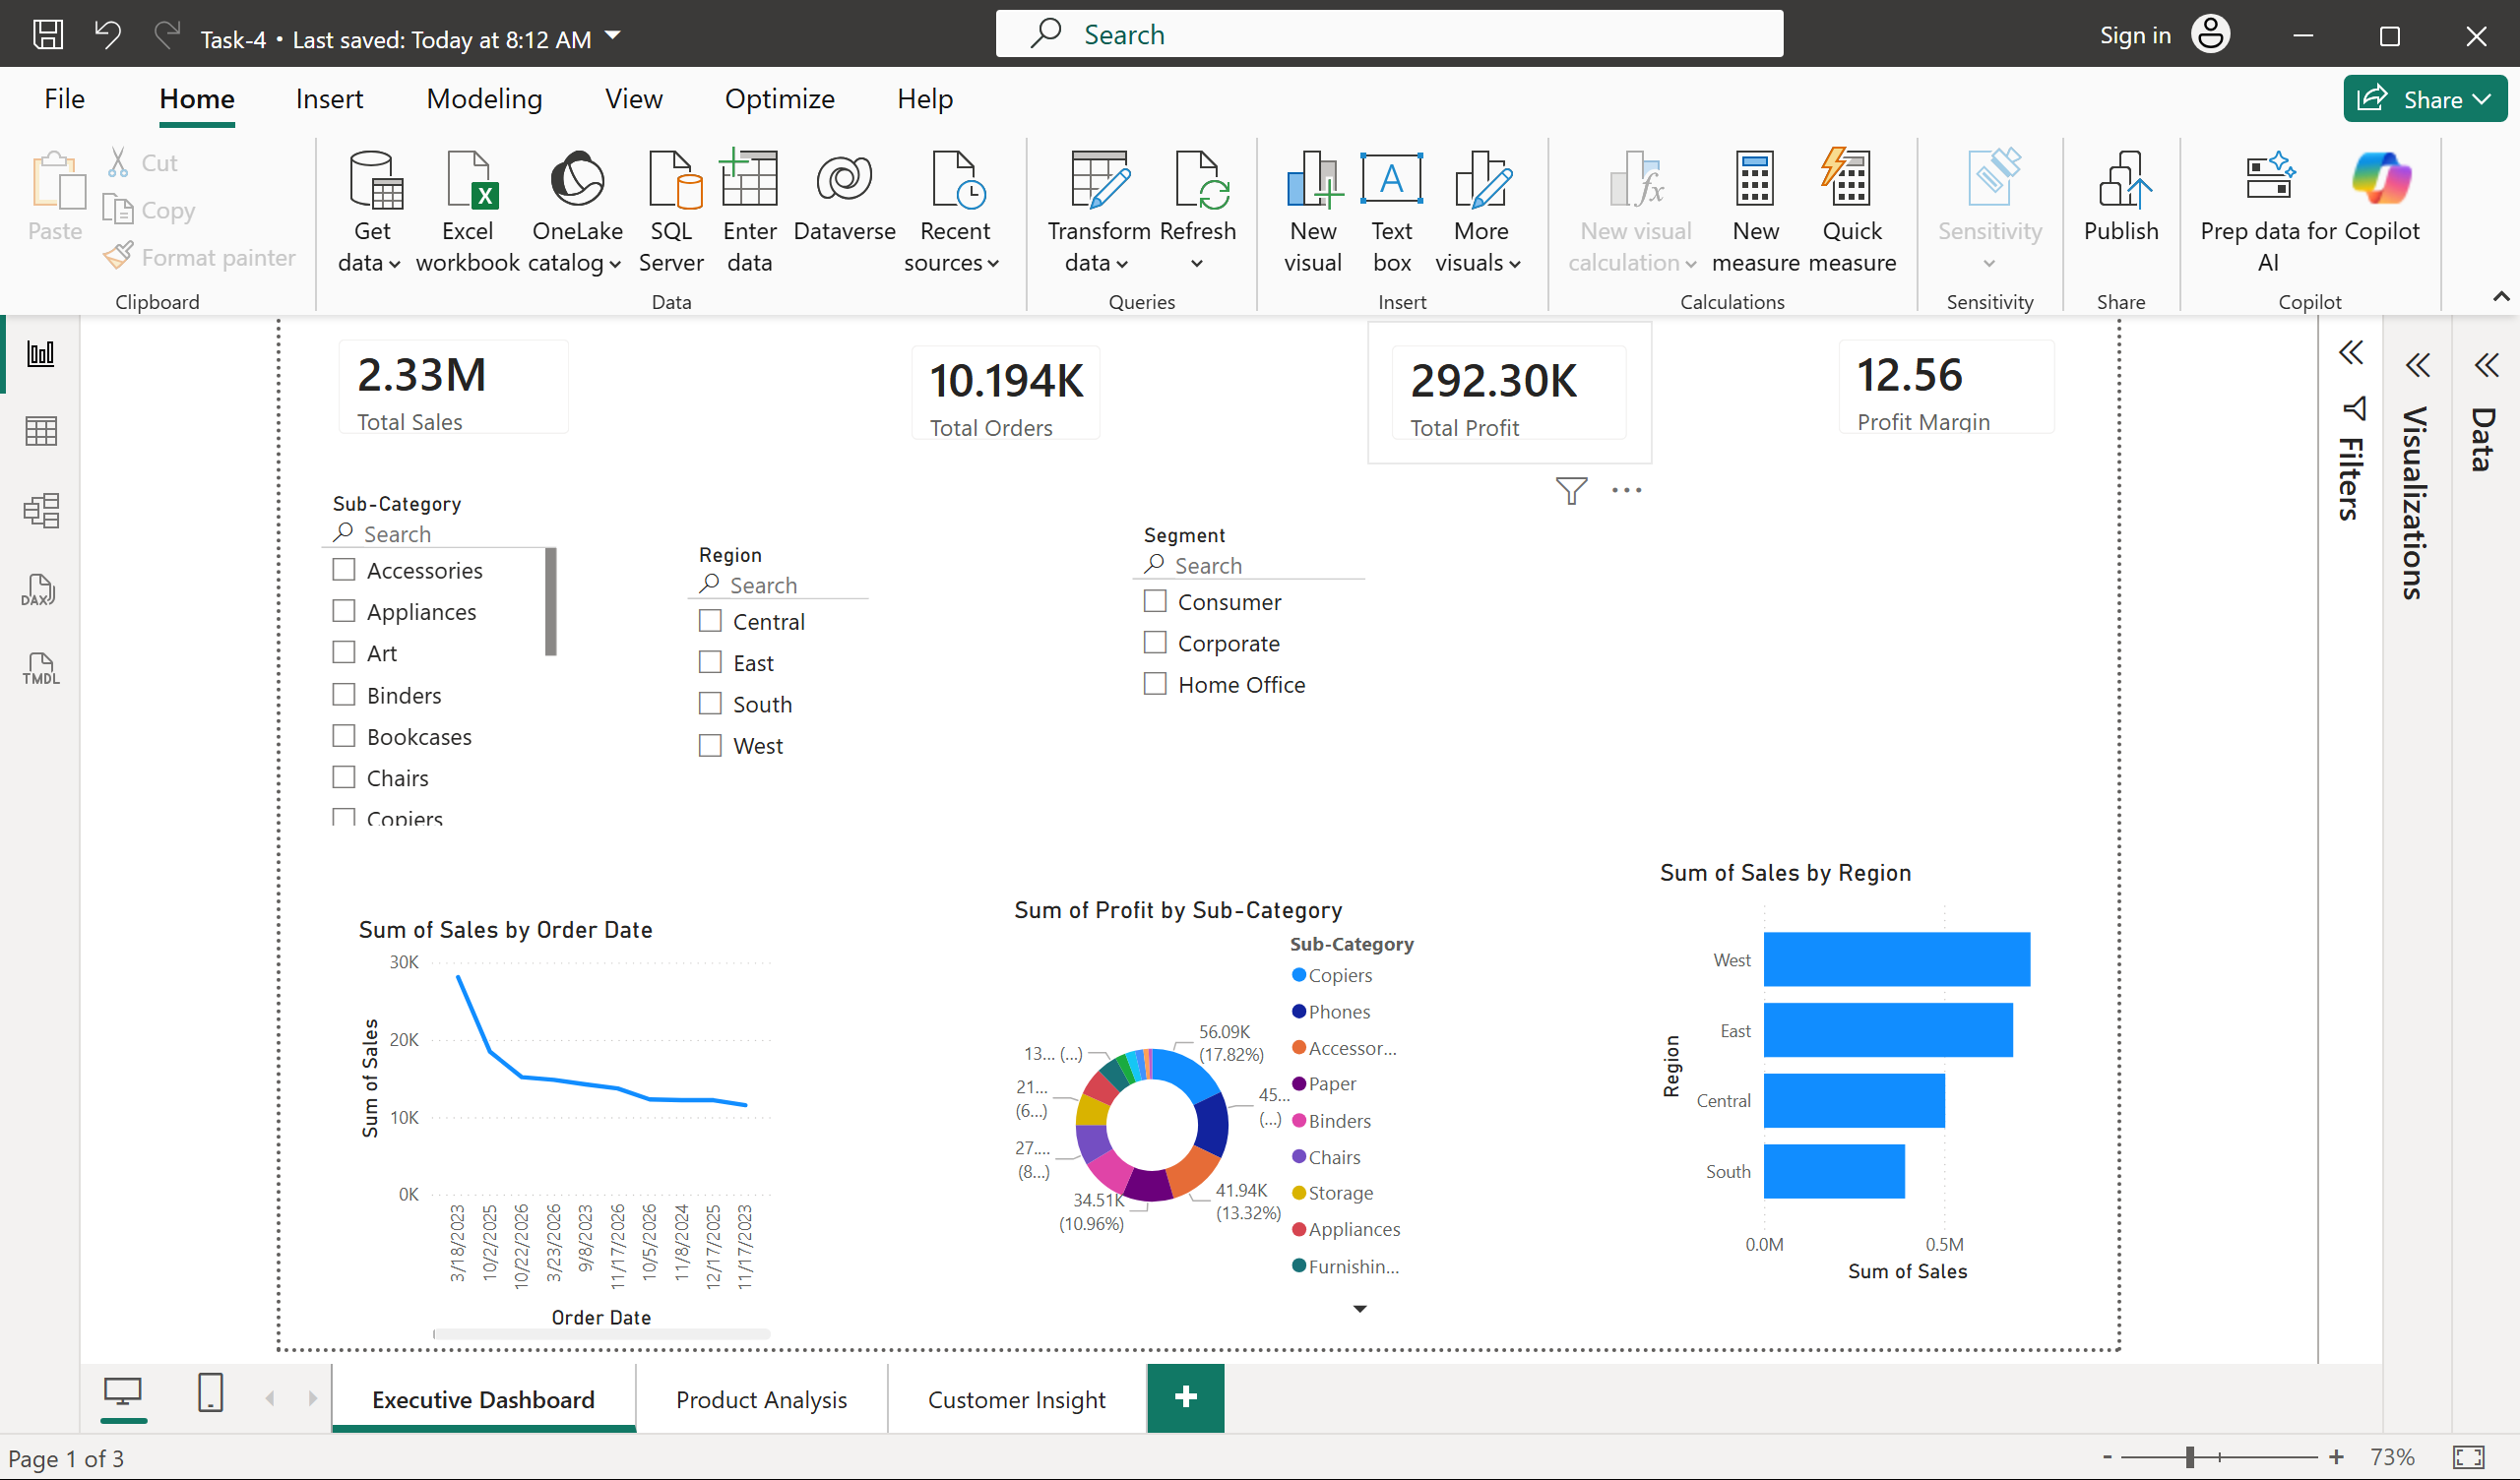

The dashboard page shown, as its layout file describes it:
{"tool":"powerbi","page":{"name":"Executive Dashboard","canvas":[1280,720],"ordinal":0},"visuals":[{"type":"cardVisual","fields":{"Data":["samplesuperstore.Total Sales","samplesuperstore.Total Sales"]},"box":[22.7,0,195,100.4],"z":0},{"type":"cardVisual","fields":{"Data":["samplesuperstore.Total Profit"]},"box":[757,4.1,198.9,100.1],"z":1000},{"type":"cardVisual","fields":{"Data":["samplesuperstore.Total Orders"]},"box":[422.2,3.8,166.6,100.4],"z":2000},{"type":"cardVisual","fields":{"Data":["samplesuperstore.Profit Margin"]},"box":[1067.9,0,185.6,100.4],"z":3000},{"type":"clusteredBarChart","fields":{"Category":["samplesuperstore.Region"],"Y":["Sum(samplesuperstore.Sales)"]},"box":[956.2,378.7,297.3,301.1],"z":4000},{"type":"donutChart","fields":{"Category":["samplesuperstore.Sub-Category"],"Y":["Sum(samplesuperstore.Profit)"]},"box":[505.6,405.2,297.3,301.1],"z":5000},{"type":"lineChart","fields":{"Y":["Sum(samplesuperstore.Sales)"],"Category":["samplesuperstore.Order Date"]},"box":[49.2,418.5,297.3,301.1],"z":6000},{"type":"slicer","fields":{"Values":["samplesuperstore.Region"]},"box":[278.3,153.4,136.3,193.1],"z":7000},{"type":"slicer","fields":{"Values":["samplesuperstore.Sub-Category"]},"box":[22.7,117.4,174.2,242.4],"z":8000},{"type":"slicer","fields":{"Values":["samplesuperstore.Segment"]},"box":[588.9,140.1,172.3,219.6],"z":9000}]}

Visuals, with their boxes on the page's 1280x720 design canvas (x1, y1, x2, y2). These are canvas units, not pixel positions in the 2520x1480 screenshot, which may show the page scaled, cropped or inside an application window:
cardVisual - samplesuperstore.Total Sales x samplesuperstore.Total Sales: [left=23, top=0, right=218, bottom=100]
cardVisual - samplesuperstore.Total Profit: [left=757, top=4, right=956, bottom=104]
cardVisual - samplesuperstore.Total Orders: [left=422, top=4, right=589, bottom=104]
cardVisual - samplesuperstore.Profit Margin: [left=1068, top=0, right=1254, bottom=100]
clusteredBarChart - samplesuperstore.Region x Sum(samplesuperstore.Sales): [left=956, top=379, right=1254, bottom=680]
donutChart - samplesuperstore.Sub-Category x Sum(samplesuperstore.Profit): [left=506, top=405, right=803, bottom=706]
lineChart - Sum(samplesuperstore.Sales) x samplesuperstore.Order Date: [left=49, top=418, right=346, bottom=720]
slicer - samplesuperstore.Region: [left=278, top=153, right=415, bottom=346]
slicer - samplesuperstore.Sub-Category: [left=23, top=117, right=197, bottom=360]
slicer - samplesuperstore.Segment: [left=589, top=140, right=761, bottom=360]
